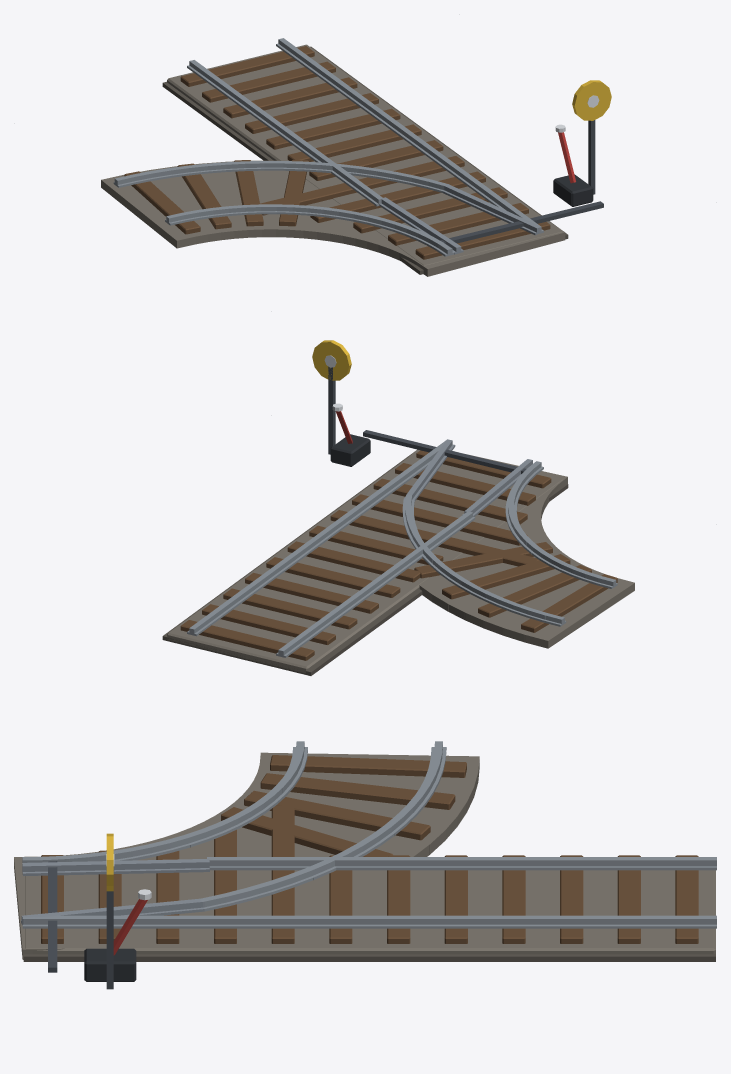
The model's file is rail_aiguillage_g_devie.glb.
3 views of the same model, one above another, from view 1: azimuth 30°, elevation 25°; view 2: azimuth 150°, elevation 25°; view 3: azimuth 270°, elevation 25° (orthographic). The views are drawn at different scales.
Parts seen in each view (by area): view 1: rail_ballast.016, rail_traverse.018, rail_rail.018, rail_acier.008, rail_acier_sombre.008, rail_ballast_sombre.010, rail_jaune.004, rail_fonte.008; view 2: rail_ballast.016, rail_traverse.018, rail_rail.018, rail_ballast_sombre.010, rail_acier_sombre.008, rail_acier.008, rail_jaune.004, rail_fonte.008; view 3: rail_ballast.016, rail_traverse.018, rail_rail.018, rail_ballast_sombre.010, rail_acier.008, rail_acier_sombre.008, rail_fonte.008, rail_rouge.008.
Boxes of the visible parts, x1=… form: rail_ballast.016: x1=101, y1=44, x2=565, y2=276; rail_traverse.018: x1=124, y1=46, x2=550, y2=259; rail_rail.018: x1=113, y1=38, x2=543, y2=256; rail_acier.008: x1=379, y1=184, x2=540, y2=254; rail_acier_sombre.008: x1=440, y1=120, x2=603, y2=243; rail_ballast_sombre.010: x1=162, y1=46, x2=568, y2=274; rail_jaune.004: x1=572, y1=80, x2=611, y2=120; rail_fonte.008: x1=553, y1=174, x2=593, y2=206; rail_ballast.016: x1=167, y1=449, x2=634, y2=673; rail_traverse.018: x1=180, y1=450, x2=617, y2=660; rail_rail.018: x1=187, y1=439, x2=617, y2=657; rail_ballast_sombre.010: x1=162, y1=450, x2=568, y2=675; rail_acier_sombre.008: x1=328, y1=366, x2=526, y2=473; rail_acier.008: x1=404, y1=439, x2=532, y2=516; rail_jaune.004: x1=312, y1=340, x2=351, y2=380; rail_fonte.008: x1=330, y1=434, x2=370, y2=466; rail_ballast.016: x1=14, y1=752, x2=715, y2=959; rail_traverse.018: x1=41, y1=755, x2=698, y2=943; rail_rail.018: x1=22, y1=741, x2=716, y2=928; rail_ballast_sombre.010: x1=23, y1=953, x2=715, y2=961; rail_acier.008: x1=21, y1=858, x2=209, y2=928; rail_acier_sombre.008: x1=48, y1=861, x2=113, y2=989; rail_fonte.008: x1=84, y1=948, x2=136, y2=981; rail_rouge.008: x1=113, y1=899, x2=147, y2=955.
Bounding box in the file's own units: 3.04 × 0.777 × 3.05.
